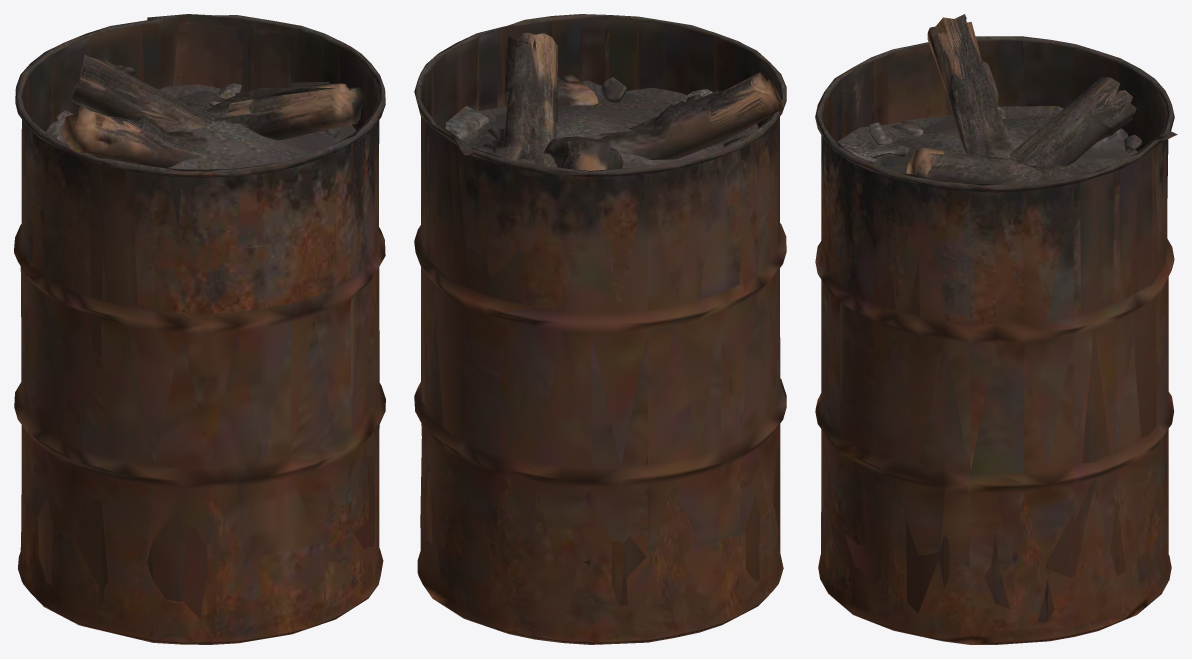
File: burn_barrel_prop.glb
The picture shows the model from 3 angles, left to right: view 1: azimuth 30°, elevation 25°; view 2: azimuth 150°, elevation 25°; view 3: azimuth 270°, elevation 25°; orthographic projection. The views are drawn at different scales.
Visible parts, largest first — view 1: Meshy_AI_burn_barrel_prop_3d_20261028_texture; view 2: Meshy_AI_burn_barrel_prop_3d_20261028_texture; view 3: Meshy_AI_burn_barrel_prop_3d_20261028_texture.
Boxes of the visible parts, x1,y1,x2,y2 form: Meshy_AI_burn_barrel_prop_3d_20261028_texture: (14, 14, 385, 644); Meshy_AI_burn_barrel_prop_3d_20261028_texture: (414, 14, 786, 644); Meshy_AI_burn_barrel_prop_3d_20261028_texture: (815, 14, 1177, 644).
Bounding box in the file's own units: 0.6304 × 0.95 × 0.6334.
Materials: 1 (1 with a texture image).
